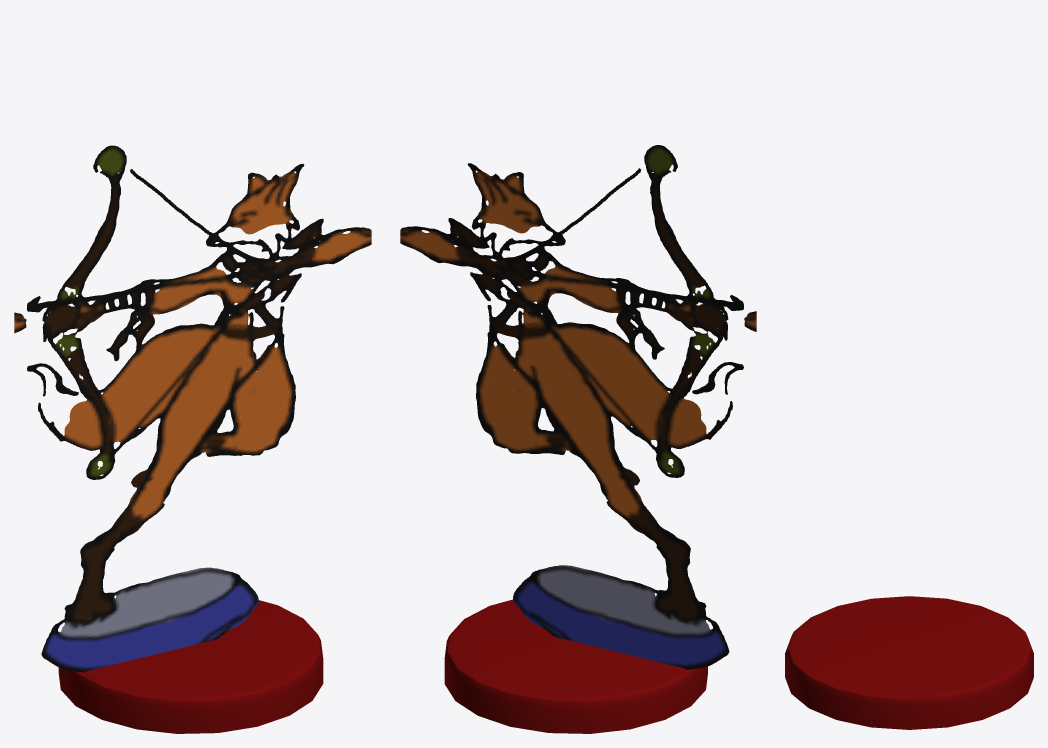
The model's file is archer.fbx.
The picture shows the model from 3 angles, left to right: view 1: azimuth 30°, elevation 25°; view 2: azimuth 150°, elevation 25°; view 3: azimuth 270°, elevation 25°; orthographic projection. The views are drawn at different scales.
Parts seen in each view (by area): view 1: pPlane1, pCylinder1; view 2: pPlane1, pCylinder1; view 3: pCylinder1.
Boxes of the visible parts, x1=… form: pPlane1: x1=14, y1=145, x2=371, y2=672; pCylinder1: x1=58, y1=600, x2=323, y2=733; pPlane1: x1=400, y1=145, x2=756, y2=669; pCylinder1: x1=444, y1=599, x2=707, y2=733; pCylinder1: x1=785, y1=596, x2=1033, y2=729.
Size of the model in its own units: 9.43 by 15.68 by 6.08.
